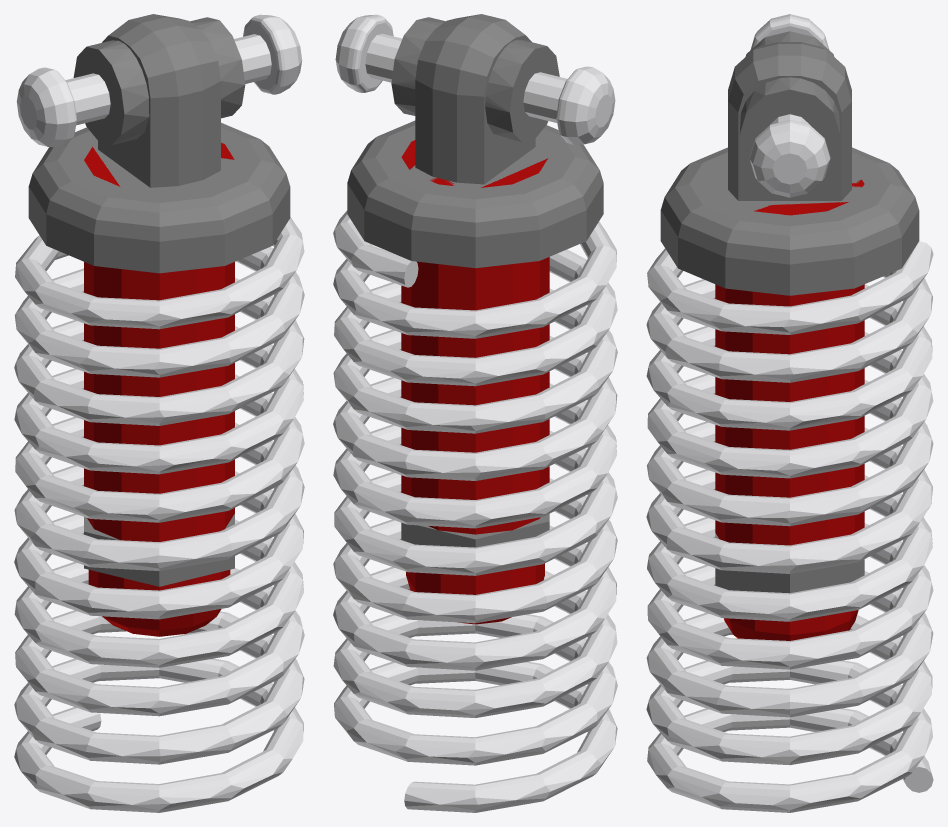
Rendered from shock_rf_1_vis.dae.
3 renders of one model, left to right at view 1: azimuth 30°, elevation 25°; view 2: azimuth 150°, elevation 25°; view 3: azimuth 270°, elevation 25°, orthographic. The views are drawn at different scales.
Parts seen in each view (by area): view 1: shock_rf_1_vis; view 2: shock_rf_1_vis; view 3: shock_rf_1_vis.
Part boxes in pixels (box(x1,y1,x2,y2)): shock_rf_1_vis: box(14, 14, 304, 812); shock_rf_1_vis: box(333, 14, 617, 812); shock_rf_1_vis: box(646, 14, 933, 812).
Bounding box in the file's own units: 0.052 × 0.05 × 0.1428.
